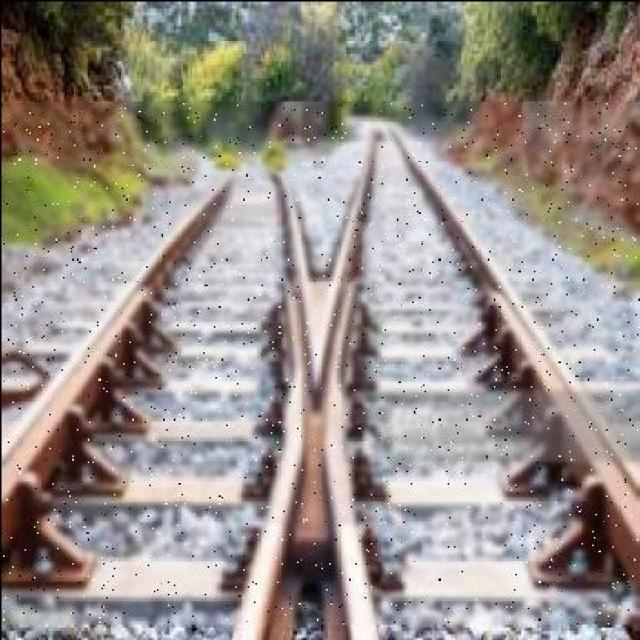rail: (1, 103, 639, 624)
